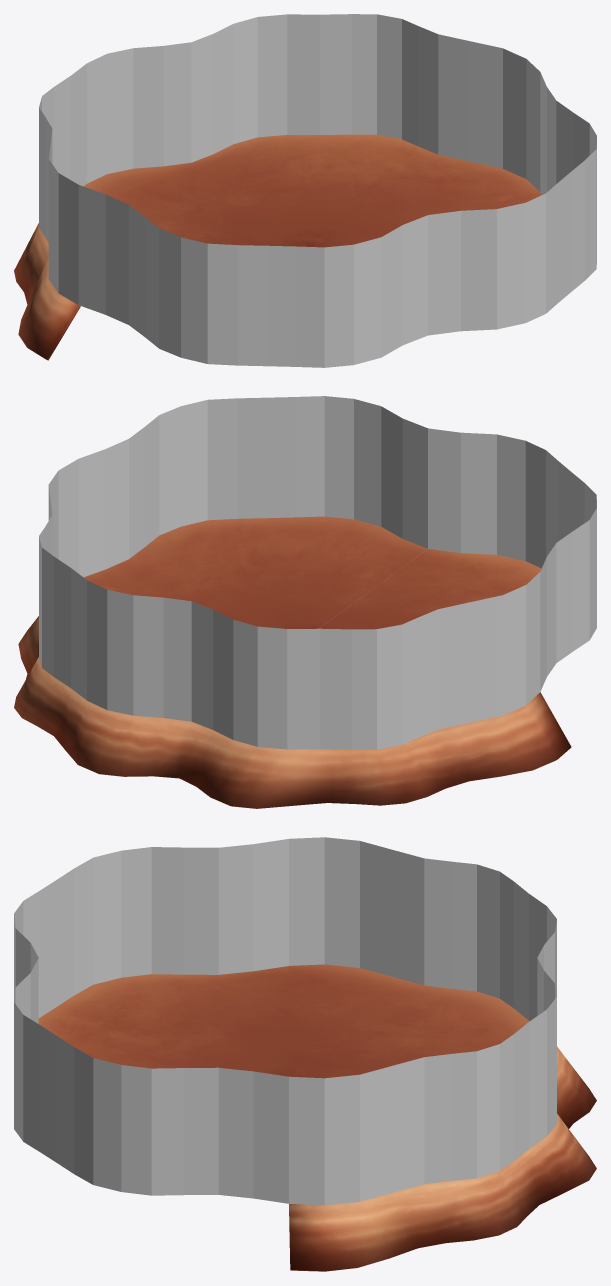
The model's file is Environment_LevelGround_MaikeP.fbx.
3 renders of one model, top to bottom at view 1: azimuth 30°, elevation 25°; view 2: azimuth 150°, elevation 25°; view 3: azimuth 270°, elevation 25°, orthographic. The views are drawn at different scales.
Parts seen in each view (by area): view 1: Environment_Ground_COL, Environment_Ground_downleft_M, Environment_Ground_downright_M, Environment_Ground_Canyon_M.001, Environment_Ground_topleft_M; view 2: Environment_Ground_COL, Environment_Ground_Canyon_M.001, Environment_Ground_topleft_M, Environment_Ground_topright_M; view 3: Environment_Ground_COL, Environment_Ground_Canyon_M.001, Environment_Ground_topright_M, Environment_Ground_downright_M.
Boxes of the visible parts, x1,y1,x2,y2 form: Environment_Ground_COL: (39,14,596,367); Environment_Ground_downleft_M: (192,134,539,247); Environment_Ground_downright_M: (84,162,306,246); Environment_Ground_Canyon_M.001: (14,223,80,360); Environment_Ground_topleft_M: (321,192,541,247); Environment_Ground_COL: (39,396,596,749); Environment_Ground_Canyon_M.001: (14,616,571,808); Environment_Ground_topleft_M: (84,516,427,628); Environment_Ground_topright_M: (319,549,541,629); Environment_Ground_COL: (14,837,556,1205); Environment_Ground_Canyon_M.001: (289,1046,596,1271); Environment_Ground_topright_M: (38,966,288,1076); Environment_Ground_downright_M: (286,964,529,1078).
Bounding box in the file's own units: 19962 × 6097 × 18020.
